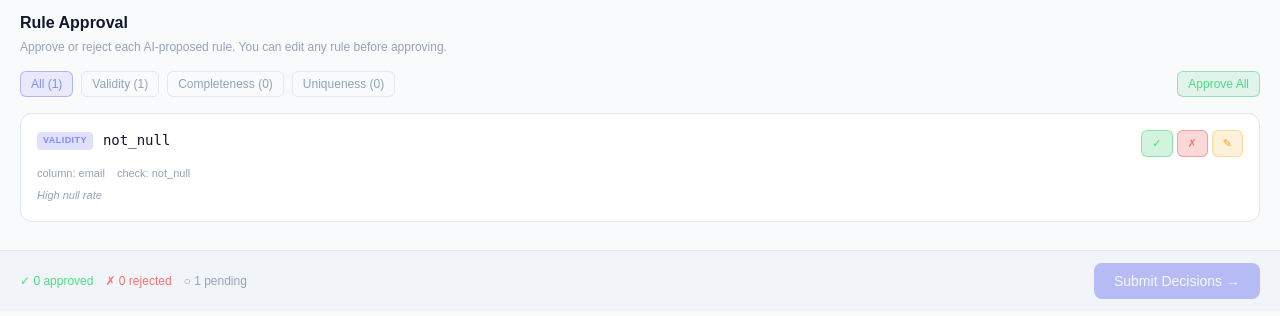
Test: submit button enables after approving all rules
Click the button "✓": (1157, 143) [1141,130,1172,156]
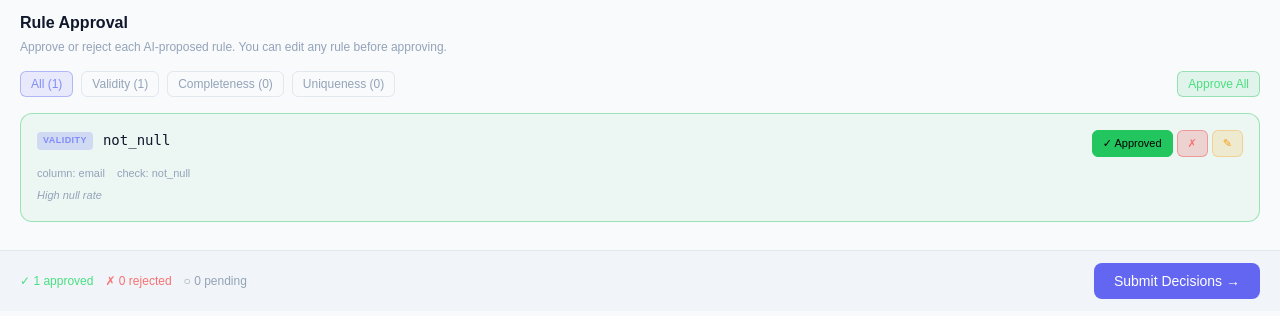
Expected: the button "Submit Decisions →" is enabled, [1094,263,1260,299]
